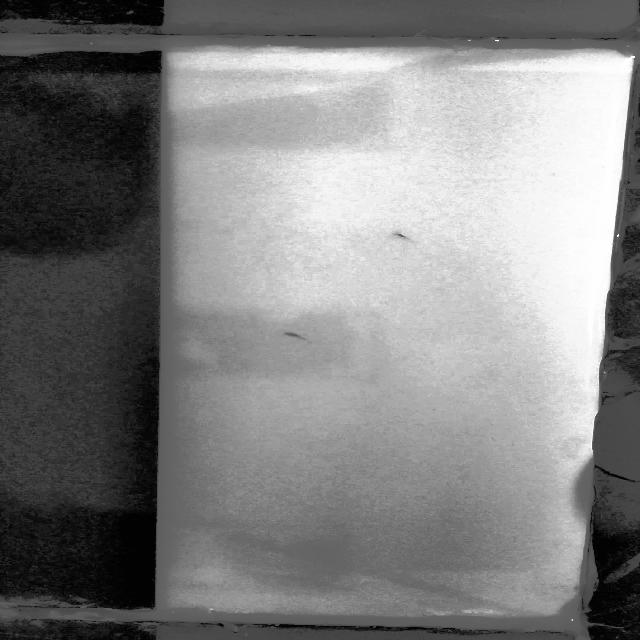shrimp: (388, 228, 427, 243), (280, 326, 310, 342)
